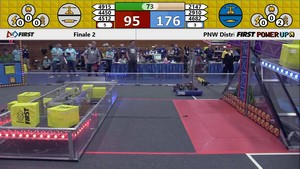cube: (47, 106, 82, 125), (11, 104, 39, 127), (278, 42, 300, 70), (4, 62, 28, 77), (20, 92, 41, 105), (92, 87, 107, 99)
